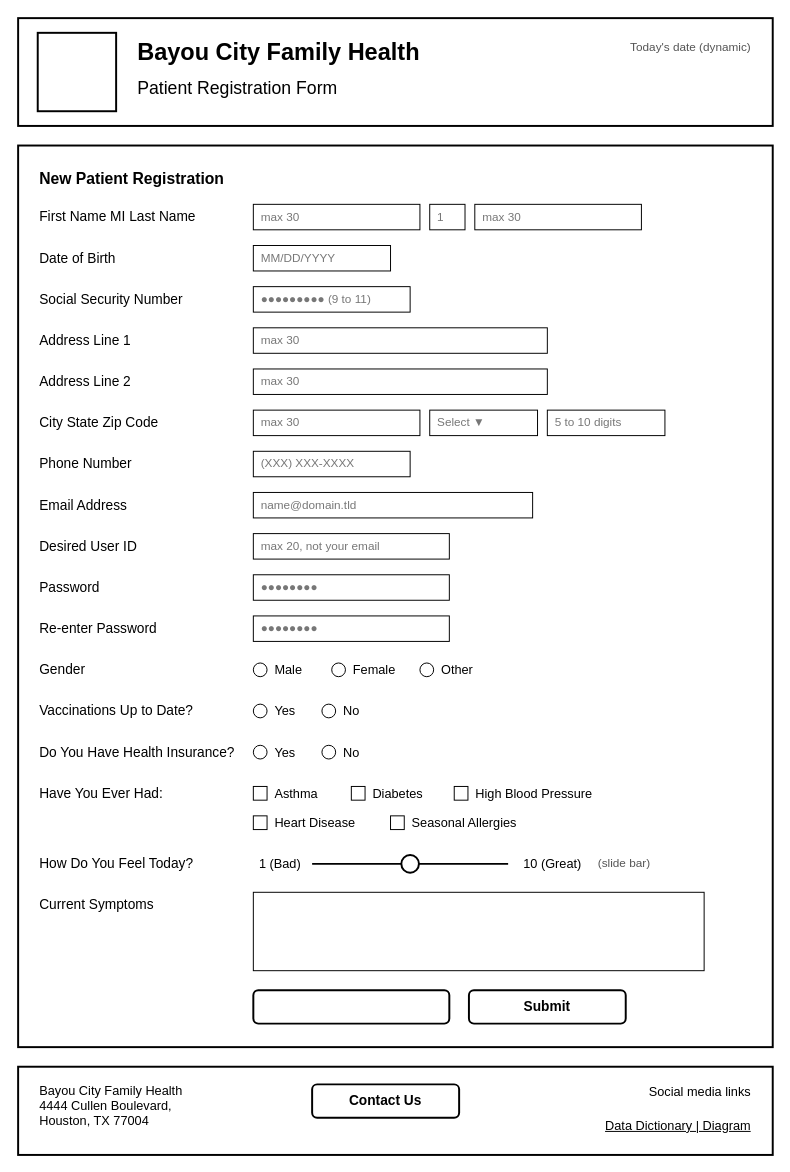
Some shapes in this 790 by 1172 pixel diagram are drawn without their labels. Here are the shapes that lost their labels. From the top down, the box of each, then its label:
(36, 31, 117, 112): Logo
(252, 891, 704, 971): Text area (3 lines x 50 columns)
(252, 989, 450, 1024): Clear and Start Over
